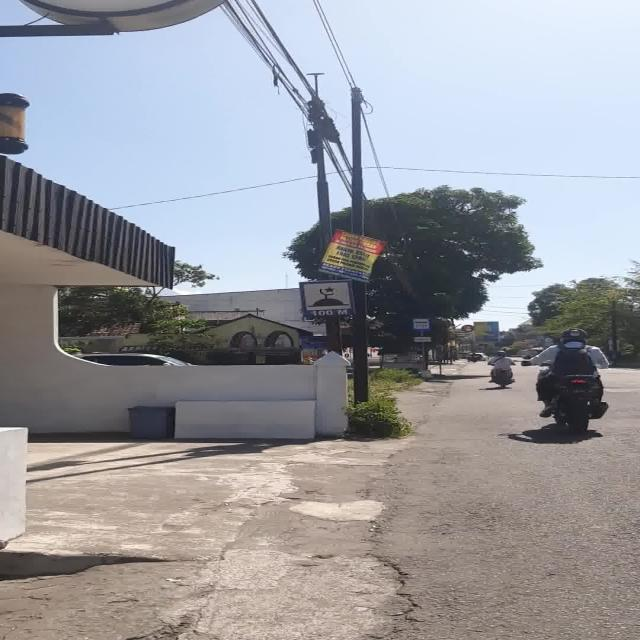Masjid: (300, 280, 354, 318)
